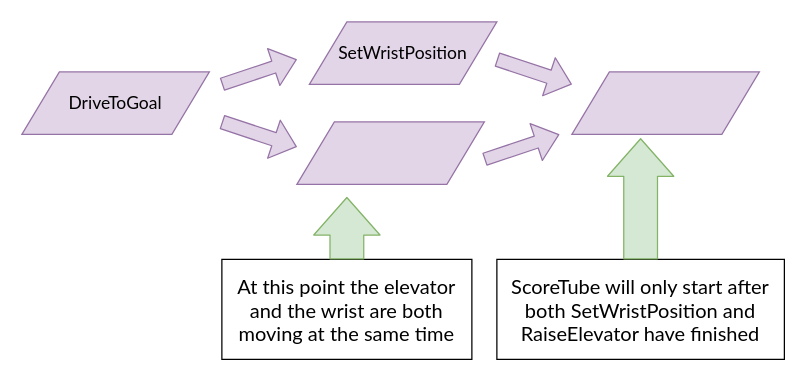
This 806x381 diagram has some shape labels left out. The shapes that lost their labels are listed below. From the top down, each one's centre as x and y in pixels, then its label:
(x=665, y=102): ScoreTube
(x=390, y=152): RaiseElevator
